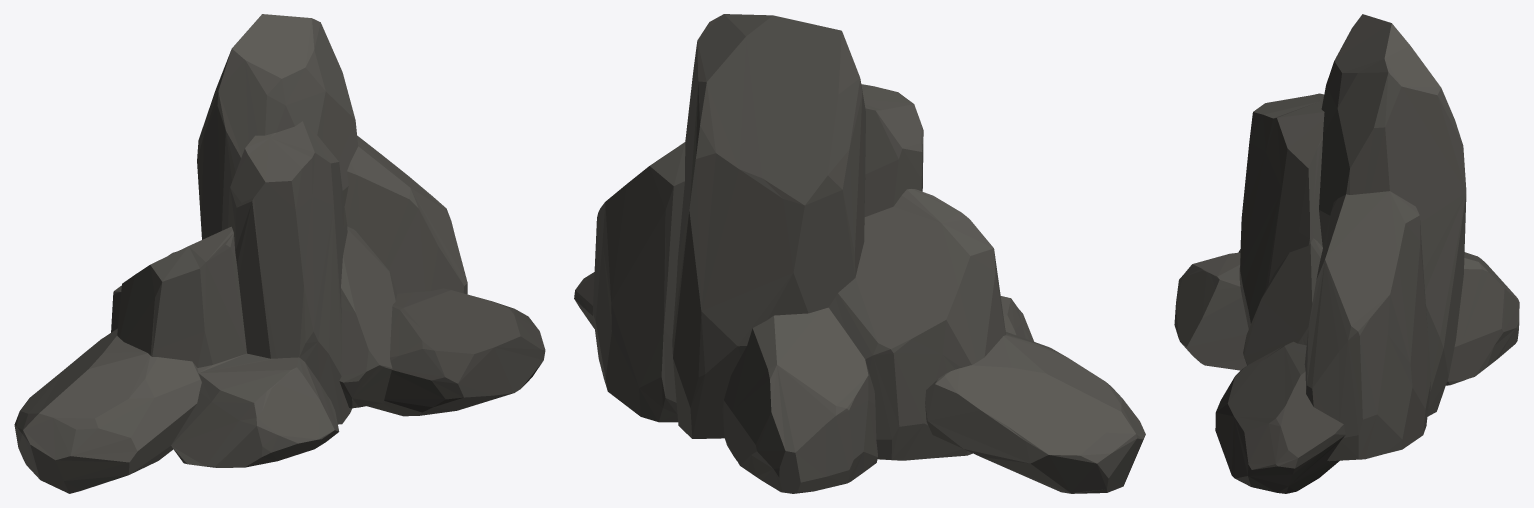
File: SM_Env_Rock_08.fbx
3 views of the same model, side by side, from view 1: azimuth 30°, elevation 25°; view 2: azimuth 150°, elevation 25°; view 3: azimuth 270°, elevation 25° (orthographic). The views are drawn at different scales.
Parts seen in each view (by area): view 1: SM_Env_Rock_08; view 2: SM_Env_Rock_08; view 3: SM_Env_Rock_08.
Boxes of the visible parts, <box> form: SM_Env_Rock_08: <box>14,14,545,493</box>; SM_Env_Rock_08: <box>574,14,1145,493</box>; SM_Env_Rock_08: <box>1174,14,1519,493</box>.
Size of the model in its own units: 992 by 736 by 589.
Materials: 1 (1 with a texture image).
